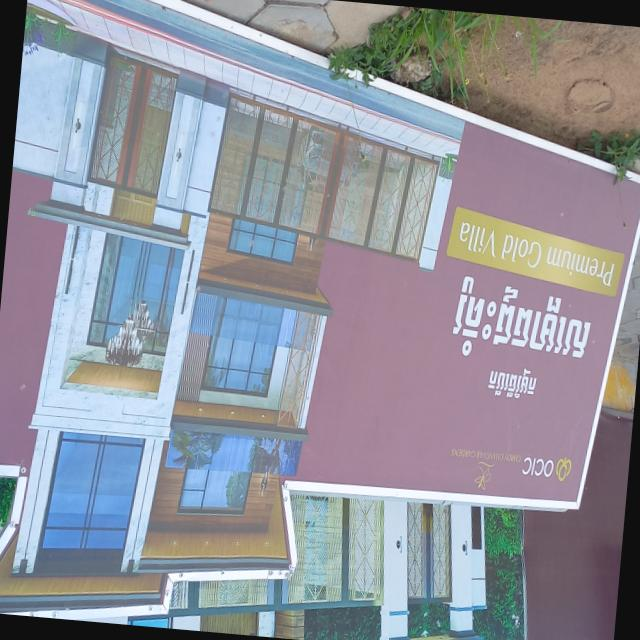Yolov11_80vkh: (445, 273, 600, 365), (474, 362, 542, 406)
